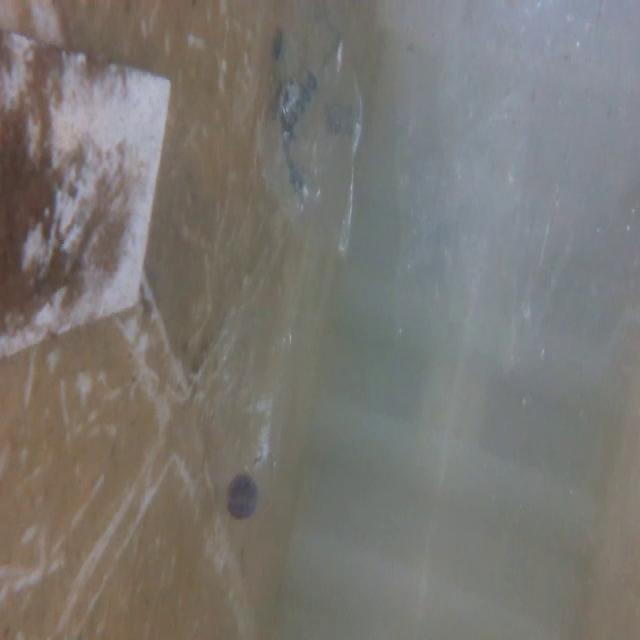metal: (0, 26, 171, 343)
plastic bags: (402, 0, 583, 371), (273, 1, 363, 265)
plastic bottle: (215, 309, 291, 532)
